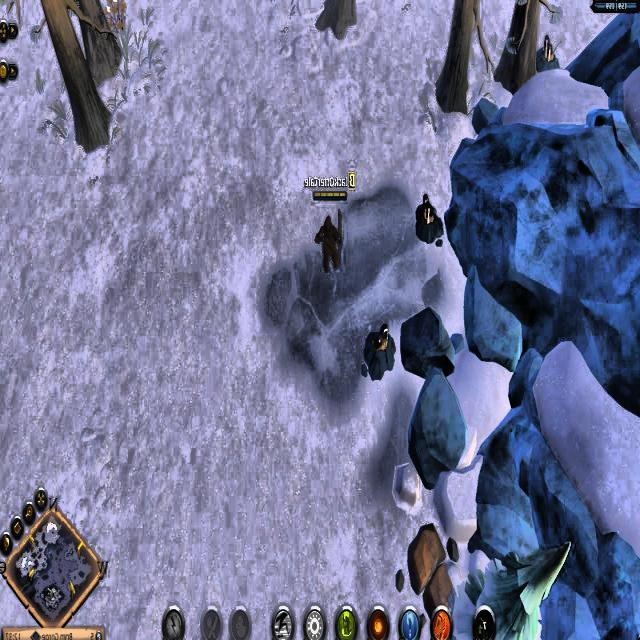copperore: (361, 318, 399, 386), (412, 190, 446, 248), (532, 33, 563, 80)
limestone: (407, 520, 456, 616)
